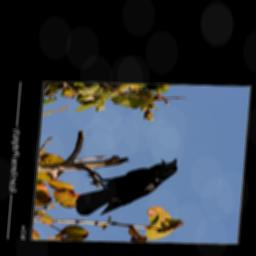Crow: (74, 156, 179, 217)
